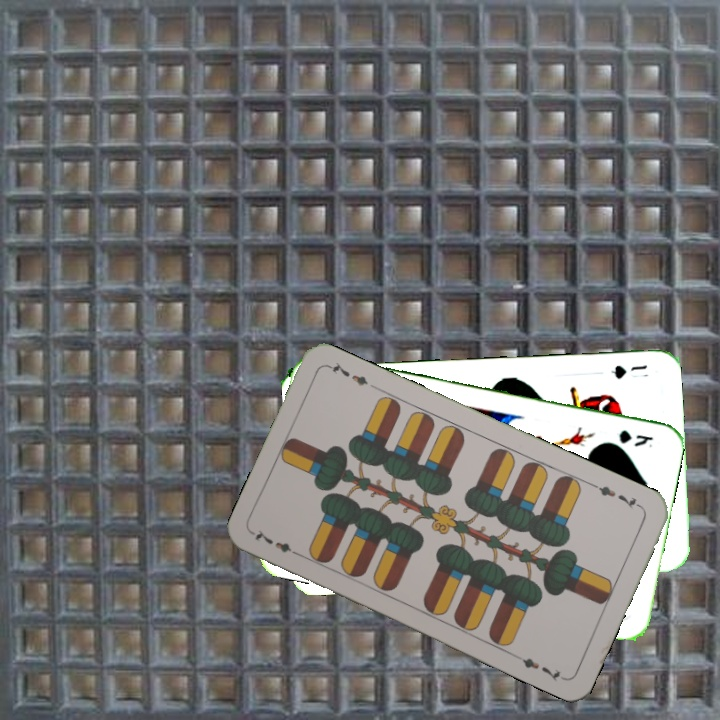E7: (250, 525, 305, 560), (589, 480, 645, 511)
GK: (615, 426, 656, 451)
GU: (607, 361, 651, 381)
